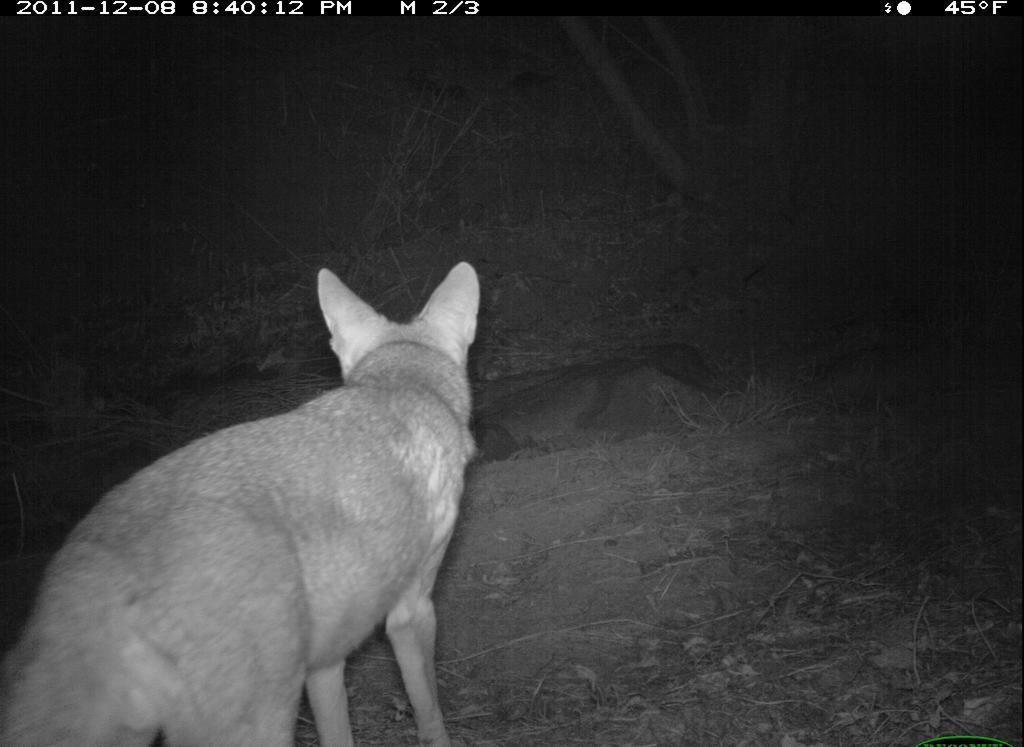coyote: (4, 257, 491, 740)
